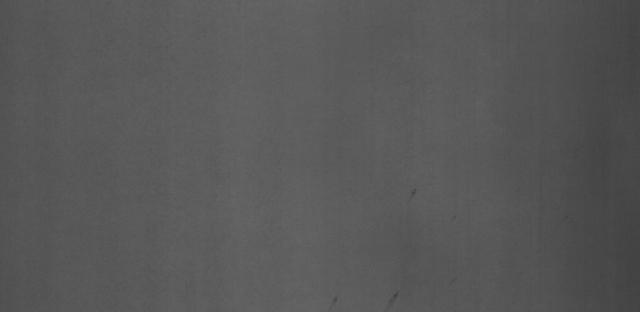water_spot: (400, 179, 434, 202), (384, 288, 409, 309), (325, 295, 344, 308)
